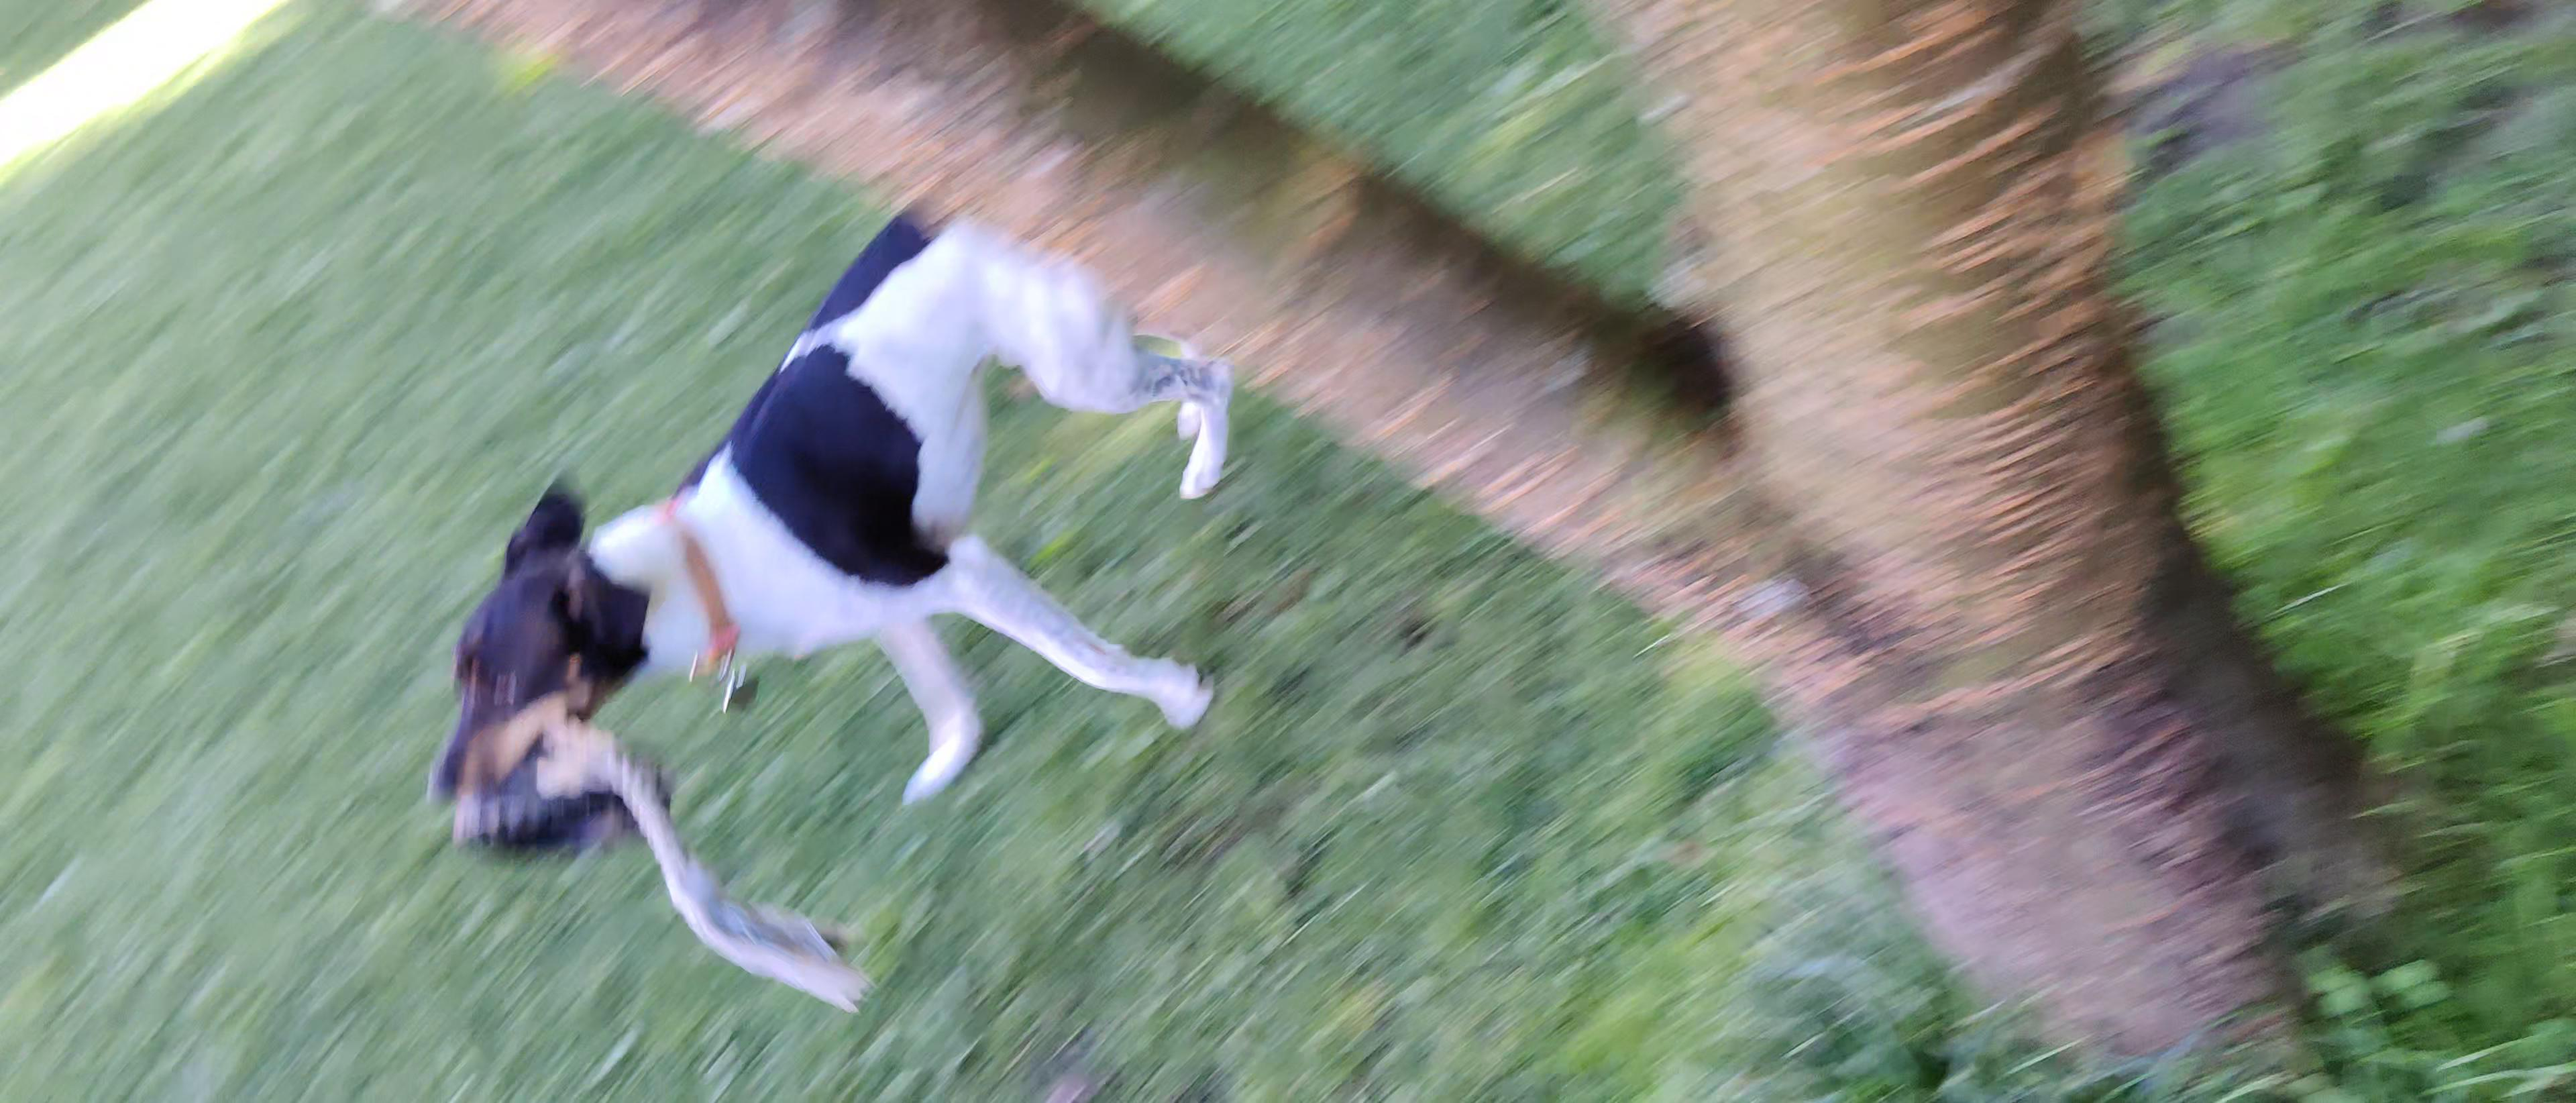Dog: (402, 171, 1252, 809)
